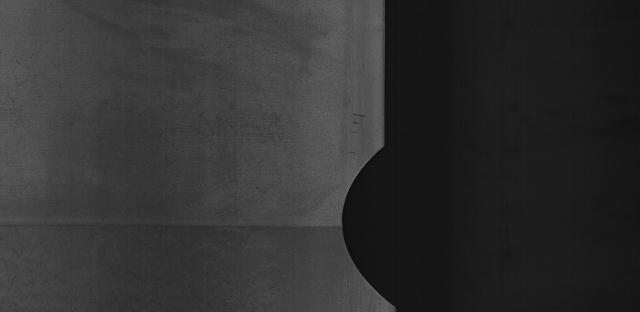welding_line: (3, 208, 352, 246)
